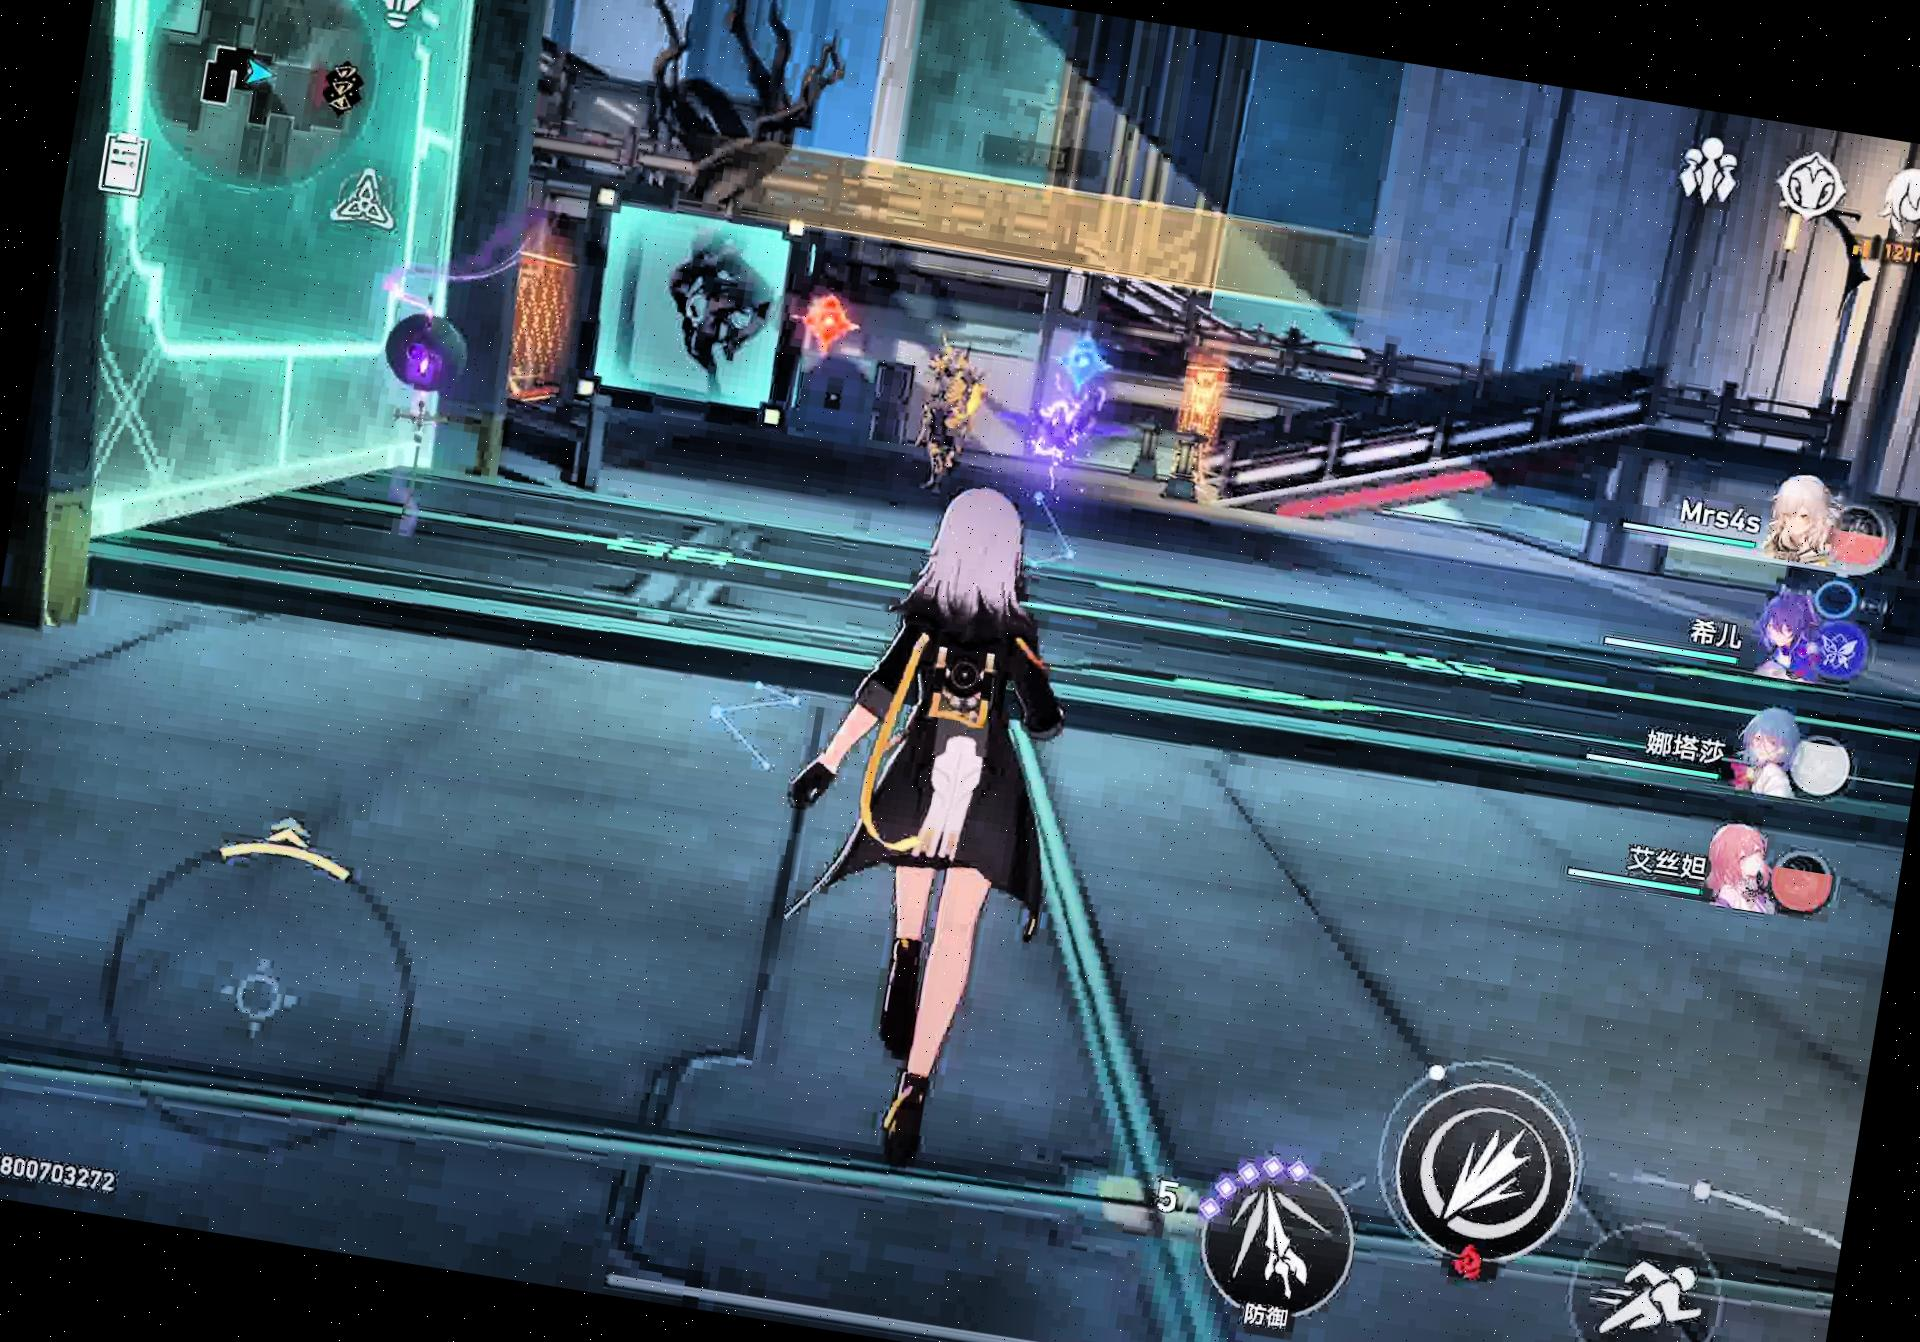BattleDoor: (785, 282, 872, 371)
Enemy: (994, 371, 1129, 502), (894, 338, 996, 492)
EventDoor: (1049, 324, 1119, 408)
Self: (735, 470, 1120, 1184)
